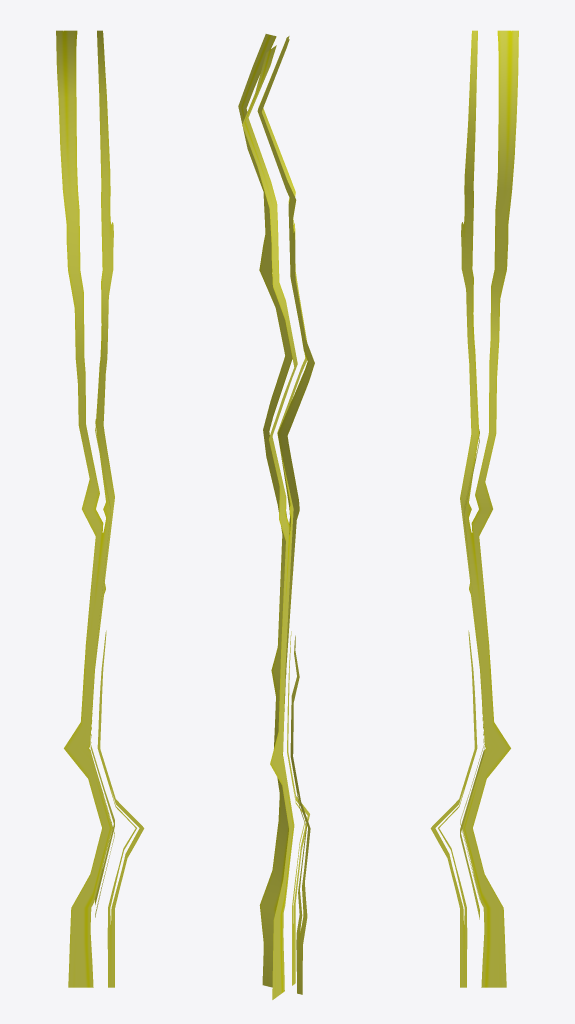
File: Thunder.fbx
3 renders of one model, left to right at view 1: azimuth 90°, elevation 25°; view 2: azimuth 150°, elevation 25°; view 3: azimuth 270°, elevation 25°, orthographic.
Visible parts, largest first — view 1: Thunder; view 2: Thunder; view 3: Thunder.
Boxes of the visible parts, x1,y1,x2,y2 form: Thunder: [56, 30, 144, 987]; Thunder: [238, 34, 314, 999]; Thunder: [430, 30, 518, 987].
Bounding box in the file's own units: 106 × 750 × 128.
